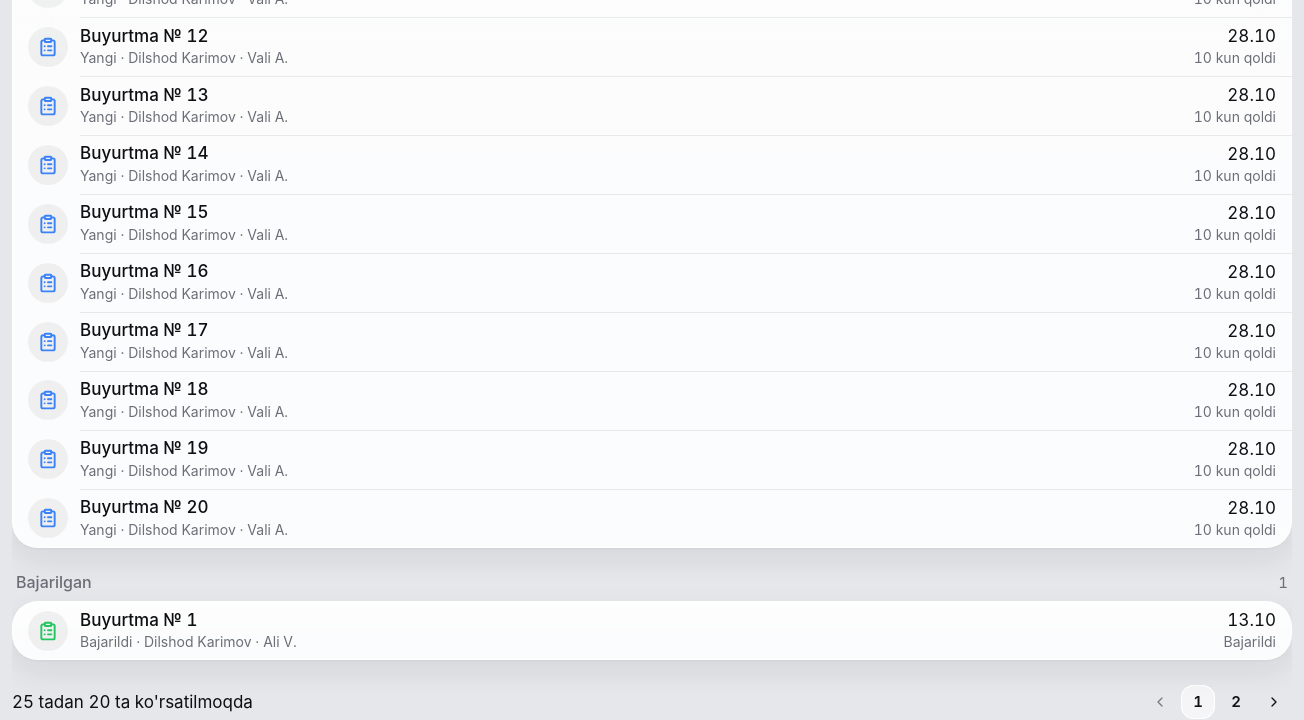
Test case: the list goes page by page, twenty at a time
(page scrolled)
Expected: the text "25 tadan 20 ta ko'rsatilmoqda" is shown, [12,691,253,713]
Expected: the button named "Oldingi" is disabled, [1142,684,1178,719]
Click the button named "Keyingi" at (1274, 702), box [1256,684,1292,719]
(page scrolled)
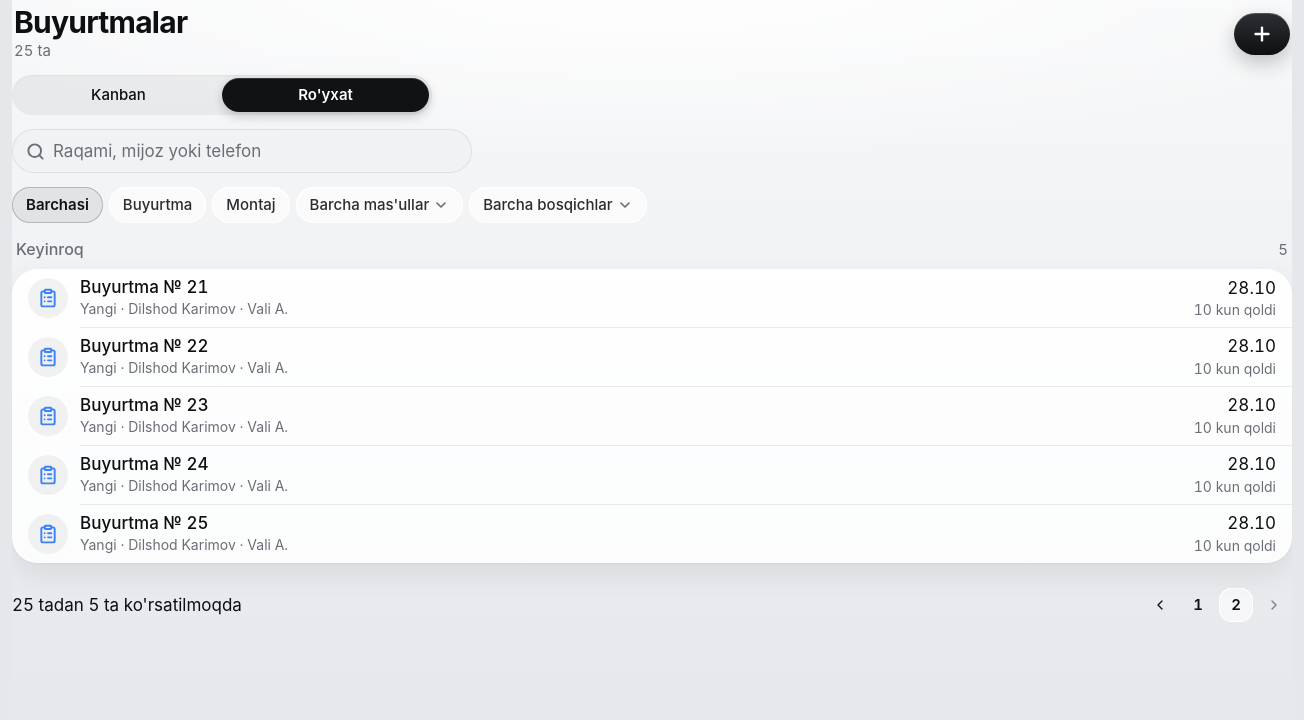
Now the number of links is 5, box [12,268,1292,328]; [12,328,1292,386]; [12,386,1292,446]; [12,446,1292,504]; [12,504,1292,563]
Now the text "25 tadan 5 ta ko'rsatilmoqda" is shown, box [12,594,242,616]
Now the button named "Keyingi" is disabled, box [1256,587,1292,623]
